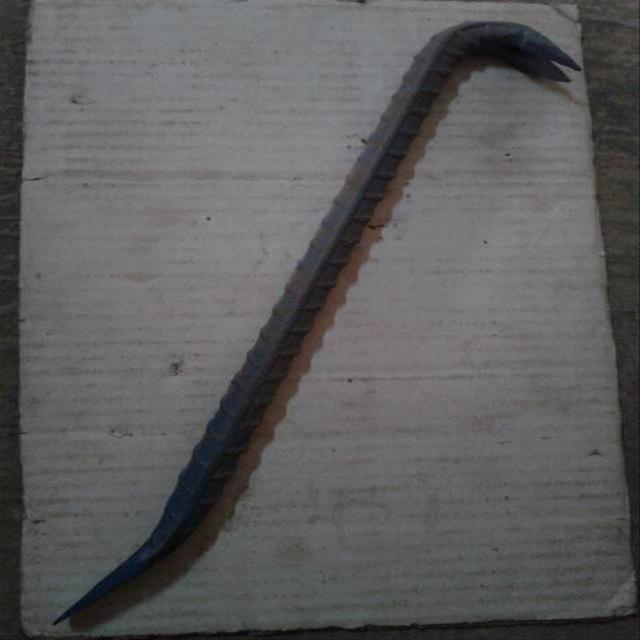Linggis: (45, 20, 572, 627)
